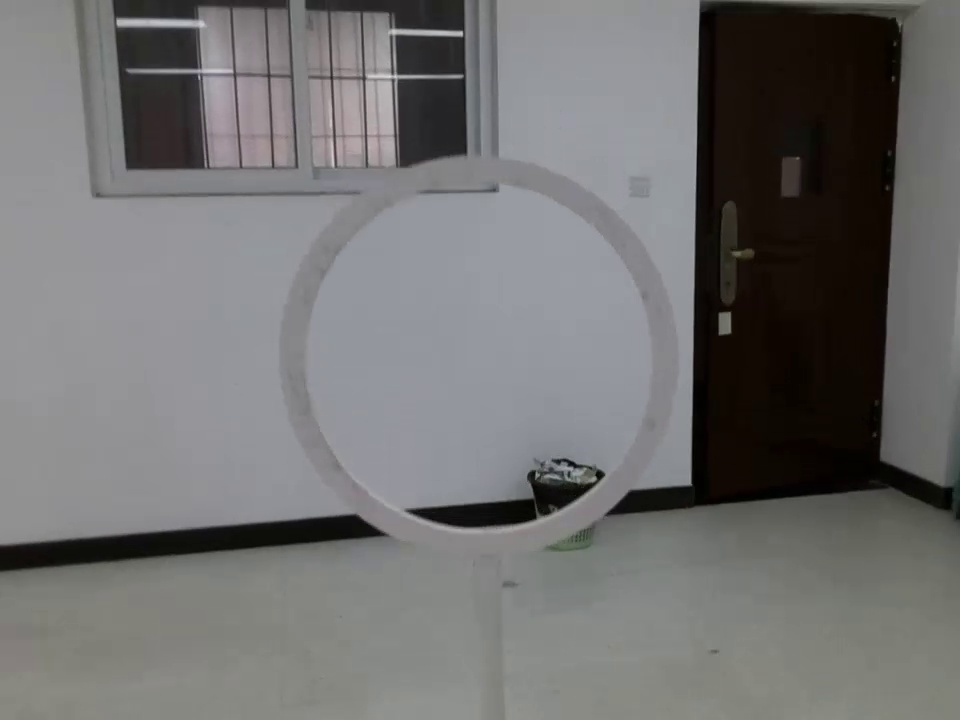quan: (272, 156, 682, 556)
